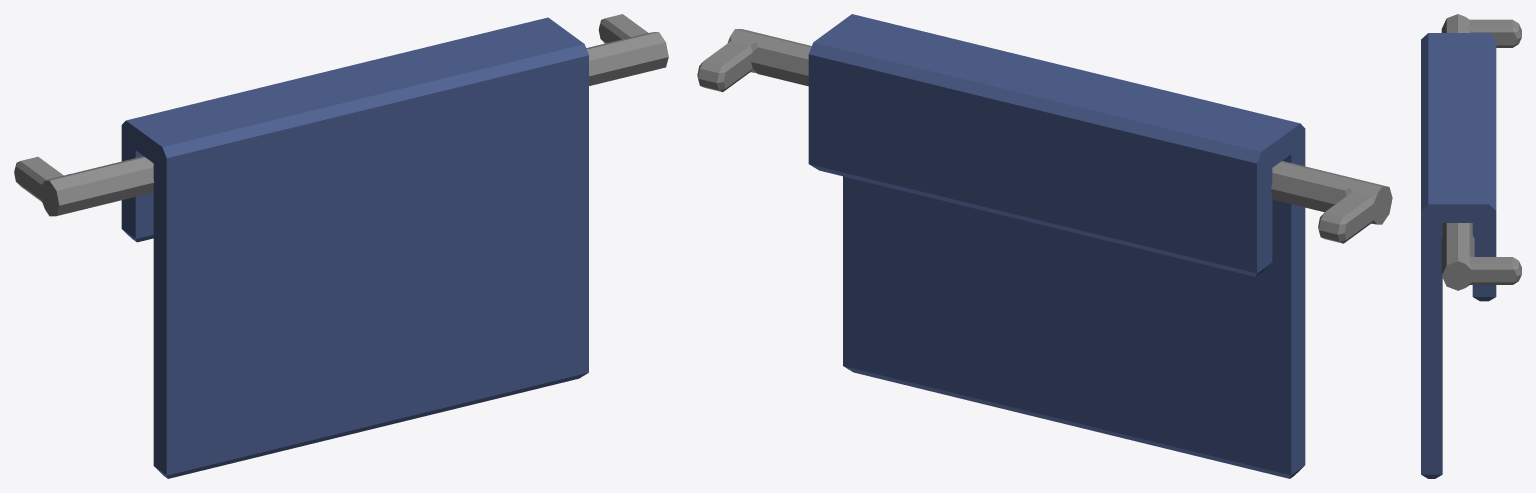
The model's file is Towel Holder.glb.
The picture shows the model from 3 angles, left to right: view 1: azimuth 30°, elevation 25°; view 2: azimuth 150°, elevation 25°; view 3: azimuth 270°, elevation 25°; orthographic projection. The views are drawn at different scales.
Parts seen in each view (by area): view 1: Towel holder; view 2: Towel holder; view 3: Towel holder.
Part boxes in pixels (<box>): Towel holder: <box>14,14,668,478</box>; Towel holder: <box>697,14,1392,478</box>; Towel holder: <box>1421,14,1521,478</box>.
Size of the model in its own units: 495 by 259 by 85.44.
